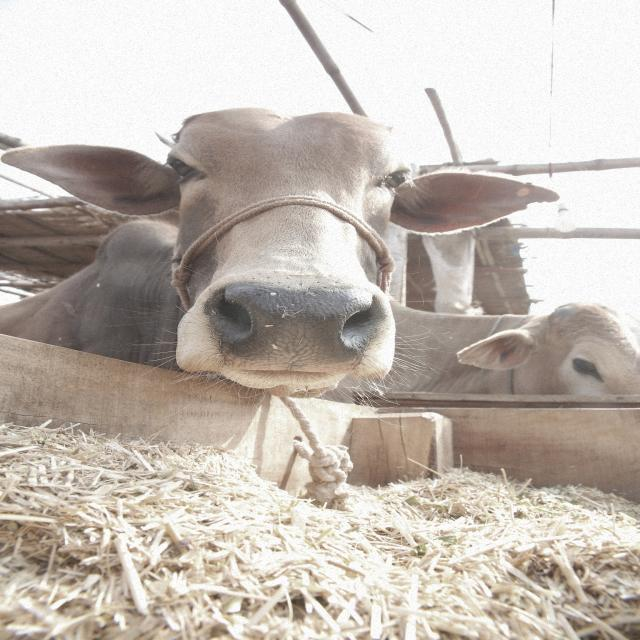muzzles: (199, 277, 386, 375)
